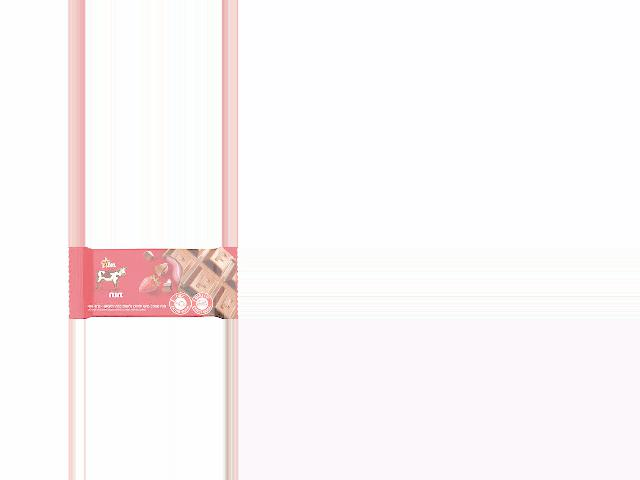chocolate: (67, 247, 236, 319)
